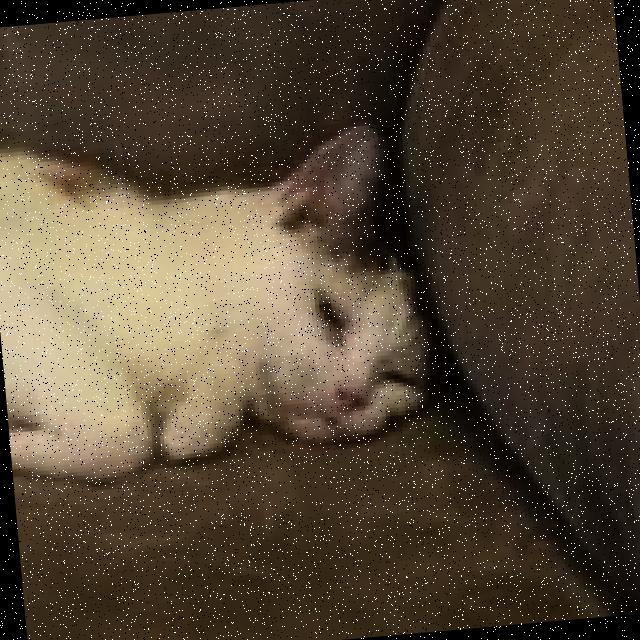Sad: (248, 258, 438, 455)
